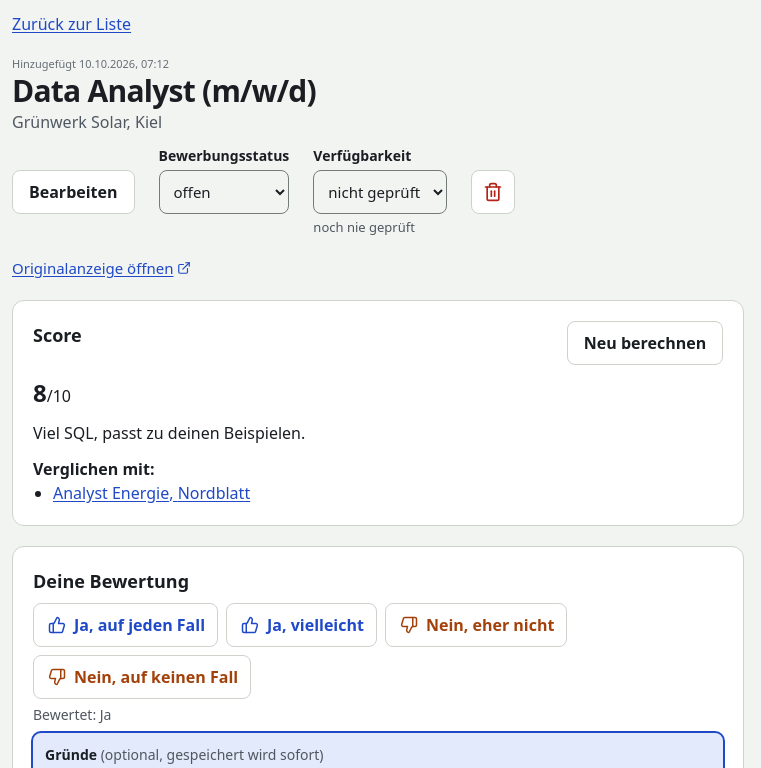
"Bearbeiten" opens the fields; a corrected company is sent alone and shown
Click the button "Bearbeiten".
click(73, 192)  # box [12, 170, 134, 214]
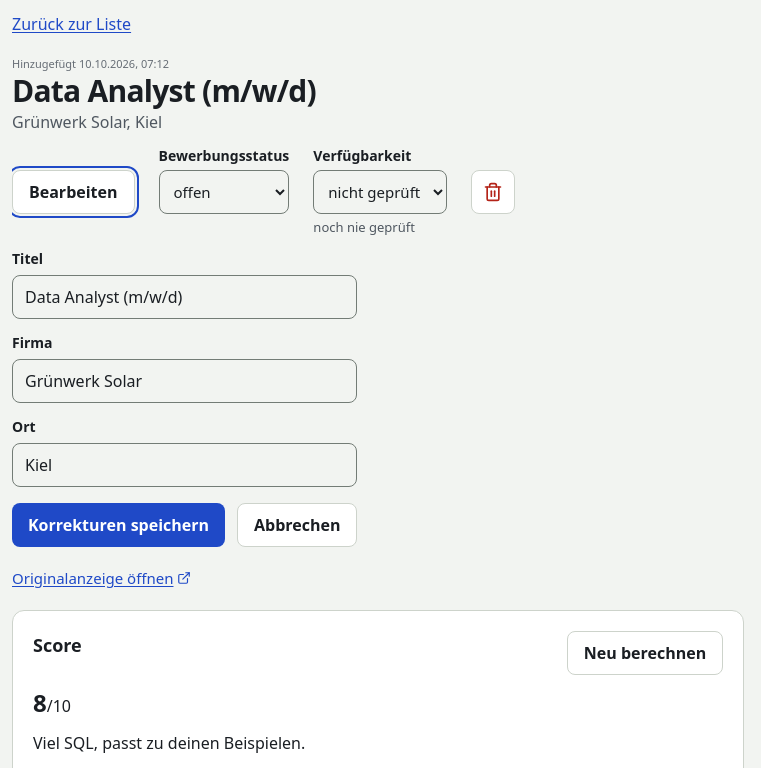
Now the field labelled "Titel" holds "Data Analyst (m/w/d)", box [12, 275, 357, 319]
Now the field labelled "Ort" holds "Kiel", box [12, 443, 357, 487]
Replace the text in the field labelled "Firma" with "Sonnenwerk" at (185, 381), box [12, 359, 357, 403]
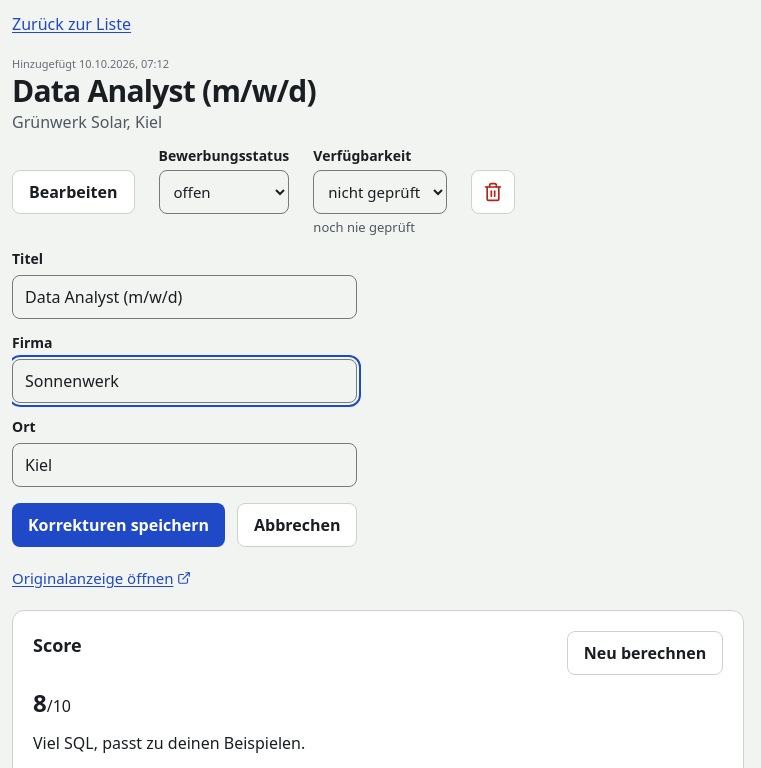
Click the button "Korrekturen speichern".
click(118, 525)  # box [12, 503, 225, 547]
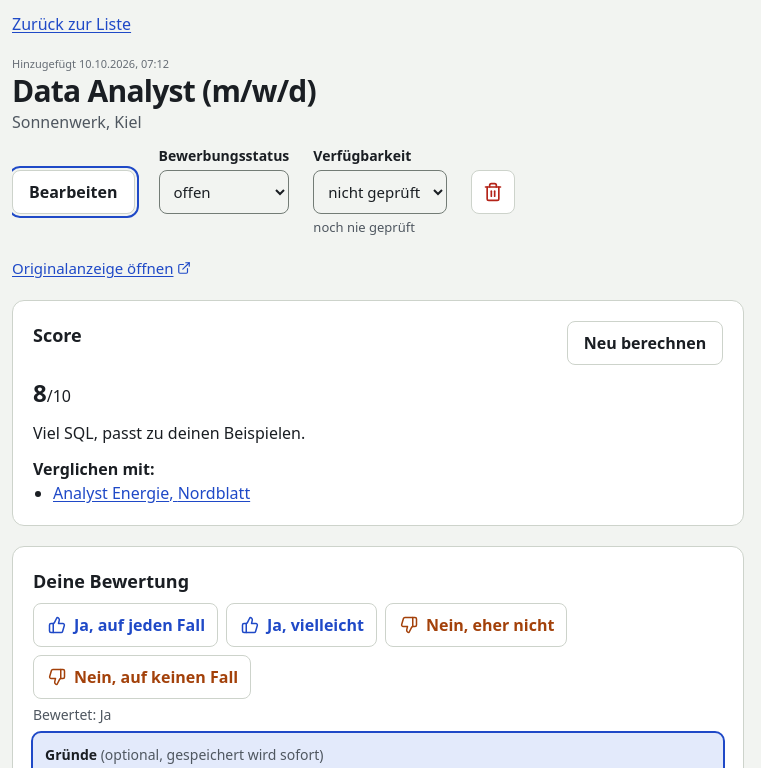
Now the text "Sonnenwerk, Kiel" is shown, box [12, 110, 142, 132]
Now the label labelled "Firma" is gone
